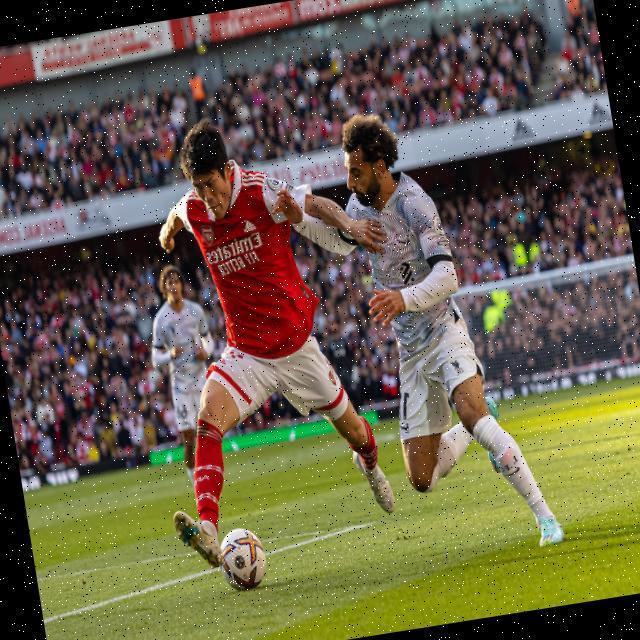Adidas: (584, 96, 614, 131), (509, 116, 537, 144), (242, 217, 258, 234), (216, 355, 226, 367)
Emirates: (203, 229, 264, 264), (293, 154, 349, 188)
Nike: (503, 466, 522, 479), (395, 236, 412, 248), (397, 421, 410, 435)
